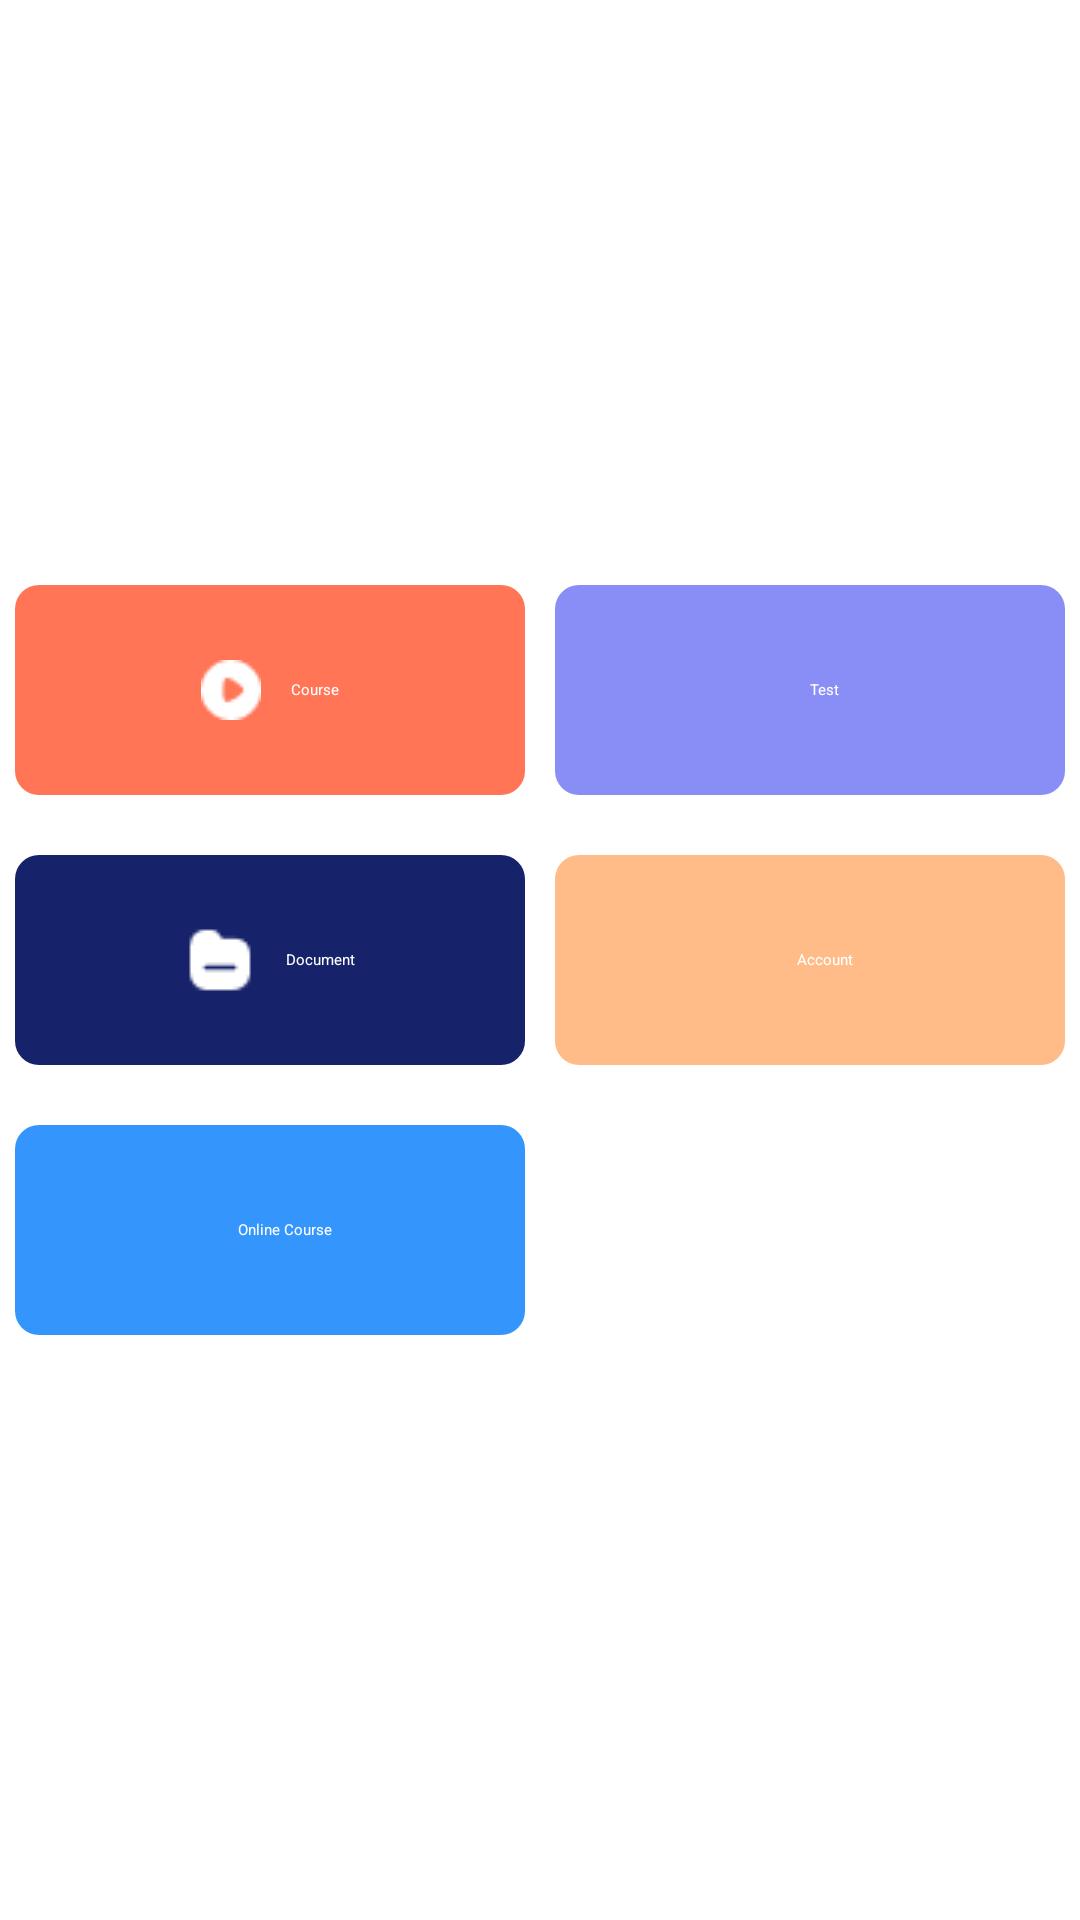

Locate icon controls on the screen. Image size 1080w x 1920h, boxes as [x1, y1, x2, y2].
folder: [189, 929, 251, 991]
play: [201, 660, 261, 720]
